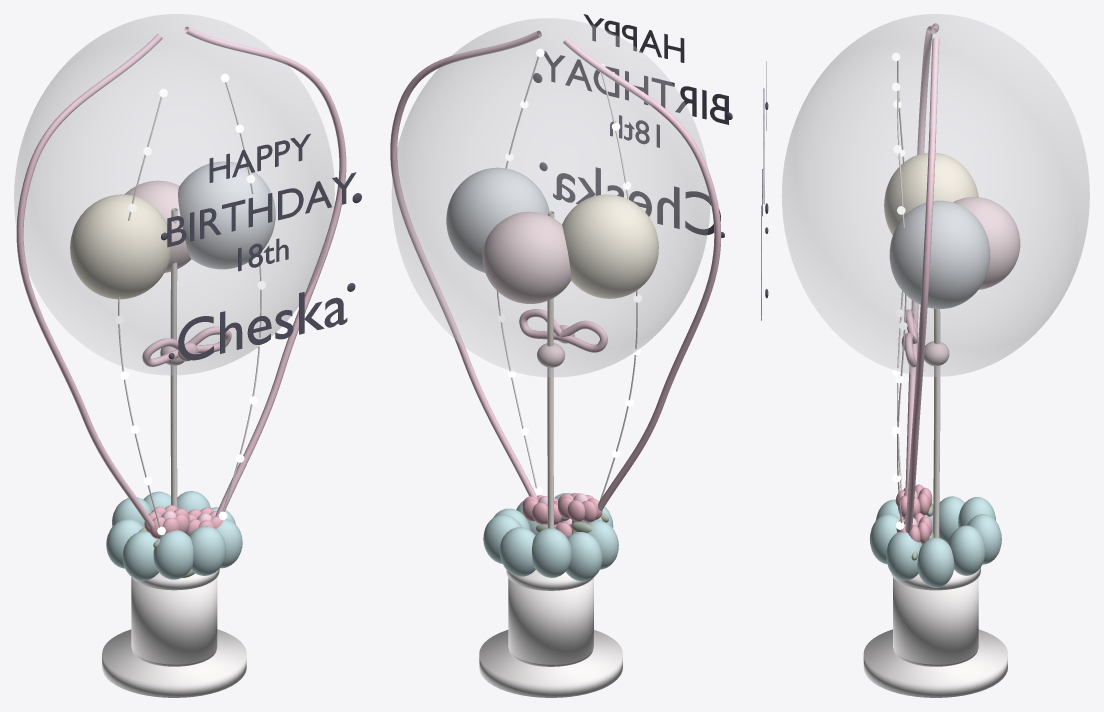
Rendered from bobo-balloon.glb.
3 renders of one model, left to right at view 1: azimuth 30°, elevation 25°; view 2: azimuth 150°, elevation 25°; view 3: azimuth 270°, elevation 25°, orthographic.
Visible parts, largest first — view 1: MAIN | Crystal-clear jumbo bubble balloon, Inner balloon | cream left, Inner balloon | silver right, Ceramic vase body, White pedestal | floor base, Ribbon left, Ribbon right, EDIT TEXT | Cheska, EDIT TEXT | BIRTHDAY, Inner balloon | blush back, Little blue accent balloon 06, Center balloon support (+11 smaller); view 2: MAIN | Crystal-clear jumbo bubble balloon, Inner balloon | cream left, Inner balloon | blush back, Ceramic vase body, White pedestal | floor base, Inner balloon | silver right, Ribbon right, Ribbon left, EDIT TEXT | BIRTHDAY, EDIT TEXT | Cheska, Little blue accent balloon 03, Center balloon support (+12 smaller); view 3: MAIN | Crystal-clear jumbo bubble balloon, Inner balloon | silver right, Ceramic vase body, White pedestal | floor base, Ribbon right, Inner balloon | cream left, Inner balloon | blush back, Ribbon left, Little blue accent balloon 00, Little blue accent balloon 01, Center balloon support, Little blue accent balloon 08 (+8 smaller).
Boxes of the visible parts, box(x1,y1,x2,y2) form: MAIN | Crystal-clear jumbo bubble balloon: box(14, 14, 334, 375); Inner balloon | cream left: box(70, 194, 171, 299); Inner balloon | silver right: box(178, 161, 275, 269); Ceramic vase body: box(131, 577, 217, 664); White pedestal | floor base: box(102, 629, 246, 697); Ribbon left: box(16, 34, 162, 529); Ribbon right: box(184, 26, 346, 516); EDIT TEXT | Cheska: box(178, 292, 347, 360); EDIT TEXT | BIRTHDAY: box(167, 172, 356, 247); Inner balloon | blush back: box(124, 180, 191, 272); Little blue accent balloon 06: box(153, 530, 193, 579); Center balloon support: box(170, 208, 177, 506); MAIN | Crystal-clear jumbo bubble balloon: box(392, 18, 709, 376); Inner balloon | cream left: box(562, 194, 658, 298); Inner balloon | blush back: box(482, 211, 571, 303); Ceramic vase body: box(508, 578, 593, 664); White pedestal | floor base: box(479, 630, 622, 697); Inner balloon | silver right: box(446, 167, 549, 272); Ribbon right: box(390, 30, 541, 498); Ribbon left: box(563, 38, 721, 510); EDIT TEXT | BIRTHDAY: box(544, 51, 728, 124); EDIT TEXT | Cheska: box(553, 167, 720, 235); Little blue accent balloon 03: box(532, 528, 571, 577); Center balloon support: box(547, 211, 554, 528); MAIN | Crystal-clear jumbo bubble balloon: box(782, 14, 1089, 376); Inner balloon | silver right: box(889, 200, 990, 308); Ceramic vase body: box(893, 577, 978, 664); White pedestal | floor base: box(863, 629, 1007, 697); Ribbon right: box(905, 37, 939, 532); Inner balloon | cream left: box(884, 152, 978, 235); Inner balloon | blush back: box(953, 197, 1020, 289); Ribbon left: box(905, 23, 939, 486); Little blue accent balloon 00: box(917, 537, 954, 587); Little blue accent balloon 01: box(948, 525, 985, 575); Center balloon support: box(933, 308, 940, 537); Little blue accent balloon 08: box(886, 532, 922, 580).
Size of the model in its own units: 2.79 by 5.18 by 2.41.
